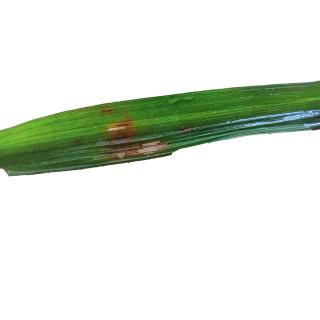Hawar-Daun: (102, 117, 135, 155), (134, 125, 171, 158)
